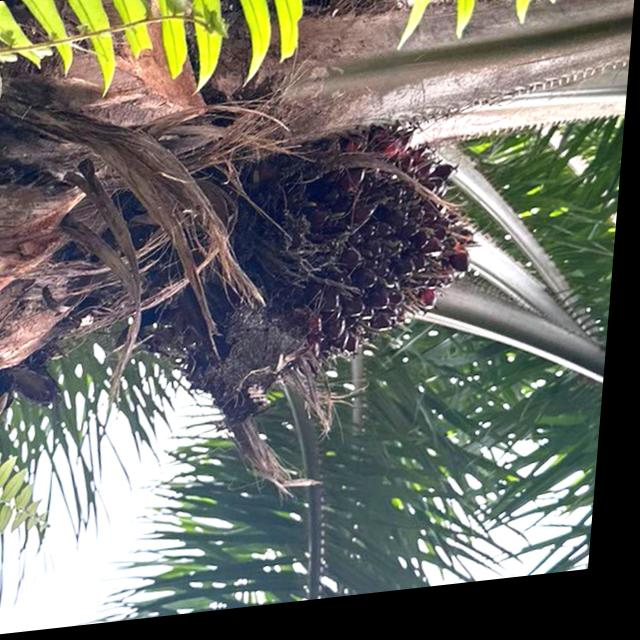ripe: (226, 113, 512, 400)
